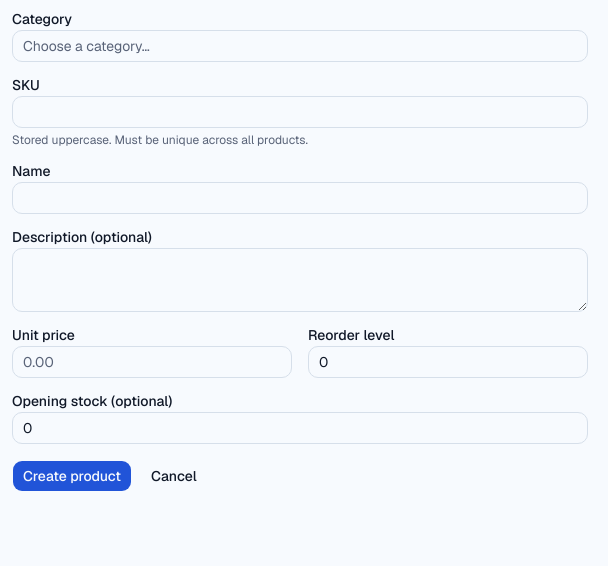
Test case: ProductForm create mode › maps unique-SKU conflicts onto the SKU field without losing the draft
In the dropdown labelled "category": (300, 46) 12,30 -> 588,62, type "Tools"
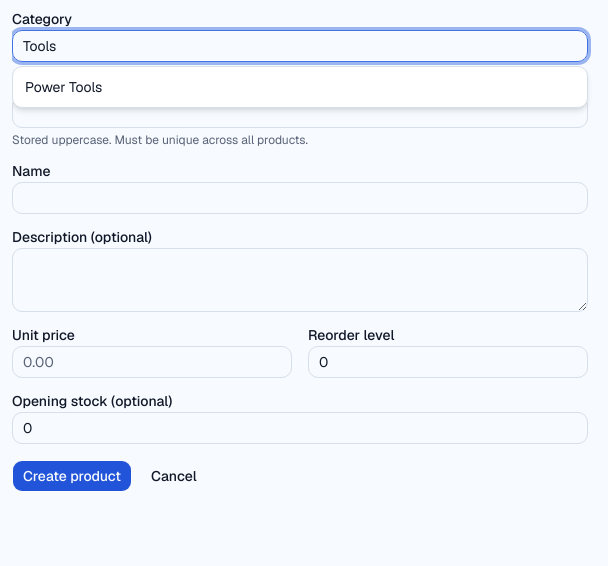
Click the option "Power Tools": (64, 87) 25,78 -> 102,96
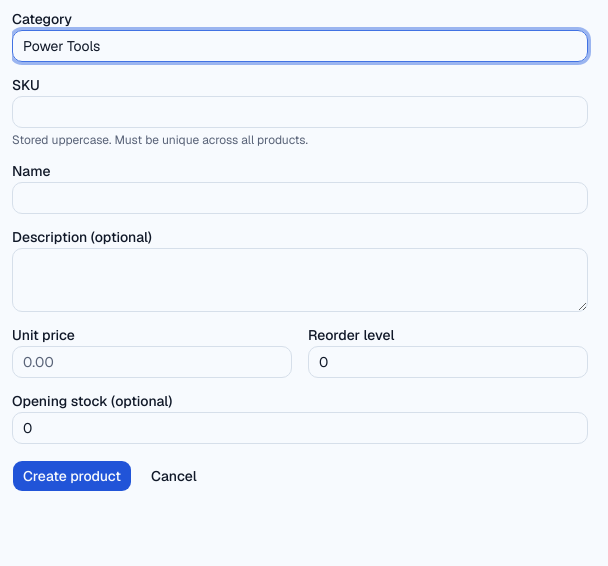
In the field labelled "SKU": (300, 112) 12,96 -> 588,128, type "DUP-1"
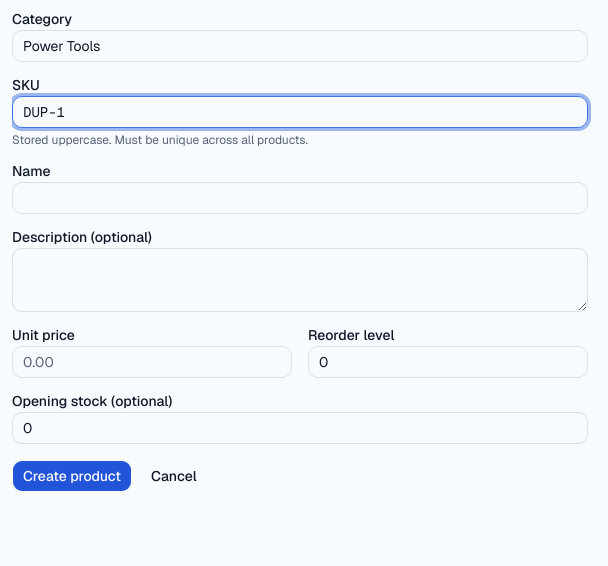
In the field labelled "Name": (300, 198) 12,182 -> 588,214, type "Duplicate Item"
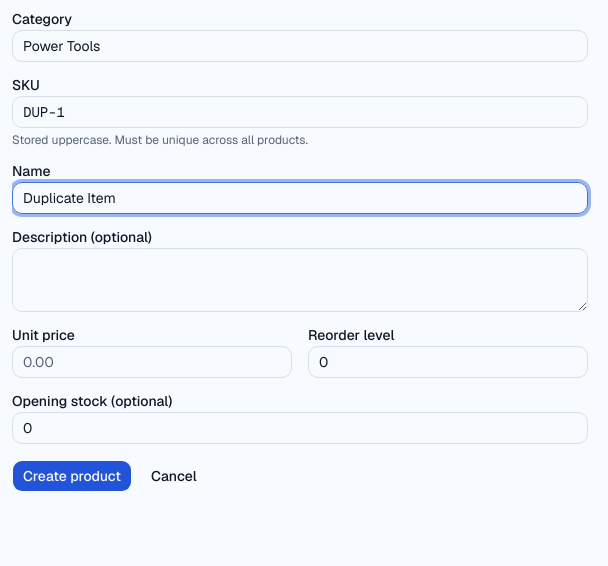
In the field labelled "Unit price": (152, 362) 12,346 -> 292,378, type "5.00"
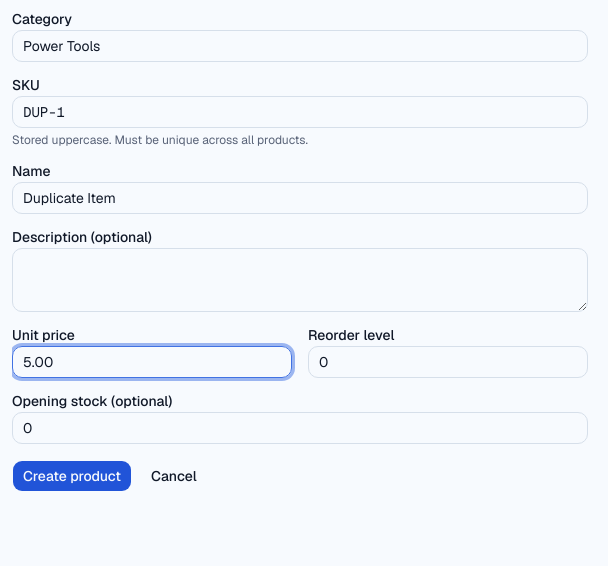
Click the button "Create product": (72, 476) 12,460 -> 132,492
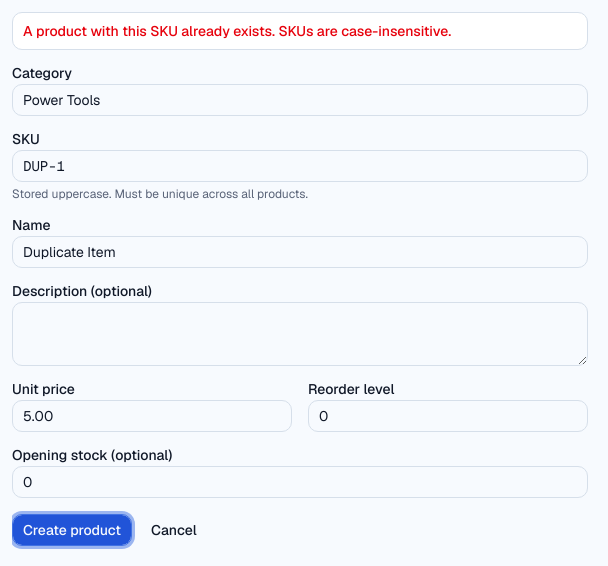
Now the message shows "already exists", box 23,22 -> 451,40
